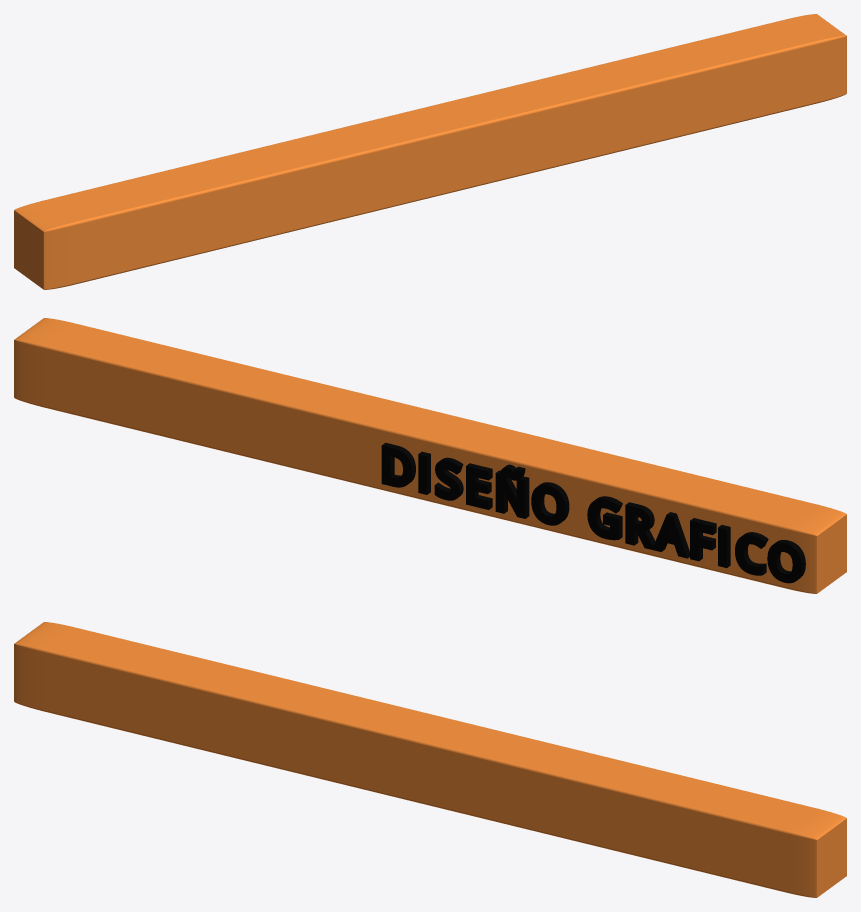
The model's file is disenografico.glb.
The picture shows the model from 3 angles, top to bottom: view 1: azimuth 30°, elevation 25°; view 2: azimuth 150°, elevation 25°; view 3: azimuth 330°, elevation 25°; orthographic projection.
Parts seen in each view (by area): view 1: Box; view 2: Box, 3D Text - O (×2), 3D Text - Ñ, 3D Text - G, 3D Text - D, 3D Text - R, 3D Text - I (×2), 3D Text - E, 3D Text - S, 3D Text - A, 3D Text - C, 3D Text - F; view 3: Box.
Part boxes in pixels (left/top/right/bottom): Box: left=14, top=14, right=846, bottom=289; Box: left=14, top=318, right=846, bottom=593; 3D Text - O (×2): left=531, top=482, right=805, bottom=583; 3D Text - Ñ: left=495, top=464, right=529, bottom=518; 3D Text - G: left=587, top=496, right=622, bottom=540; 3D Text - D: left=381, top=442, right=415, bottom=487; 3D Text - R: left=625, top=502, right=655, bottom=550; 3D Text - I (×2): left=418, top=451, right=730, bottom=567; 3D Text - E: left=466, top=463, right=492, bottom=509; 3D Text - S: left=434, top=457, right=463, bottom=500; 3D Text - A: left=652, top=512, right=689, bottom=558; 3D Text - C: left=735, top=532, right=768, bottom=575; 3D Text - F: left=690, top=518, right=716, bottom=561; Box: left=14, top=622, right=846, bottom=897.
Size of the model in its own units: 1.45 by 0.1081 by 0.1119.
